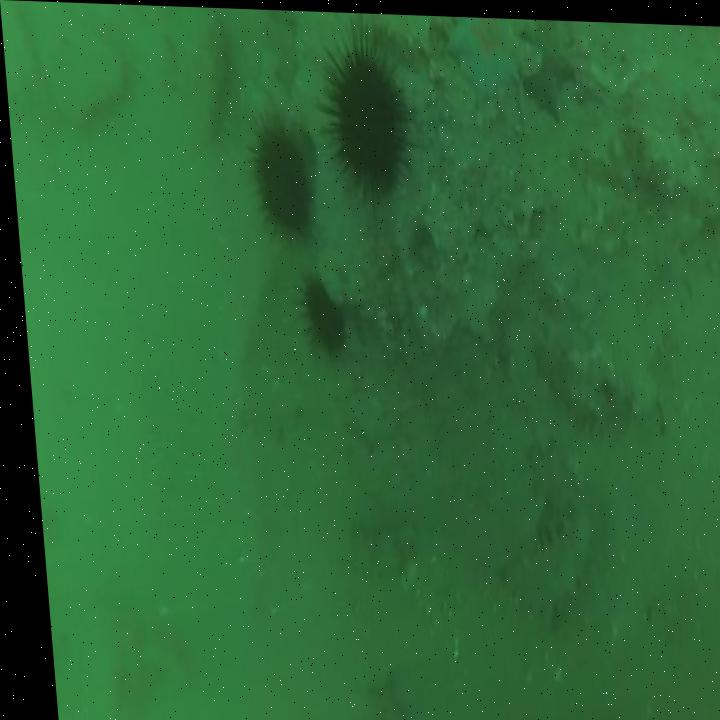echinus: (313, 39, 416, 204), (235, 103, 321, 249), (281, 264, 343, 354)
holothurian: (487, 490, 593, 623)
starfish: (450, 17, 528, 113), (519, 26, 578, 130)
